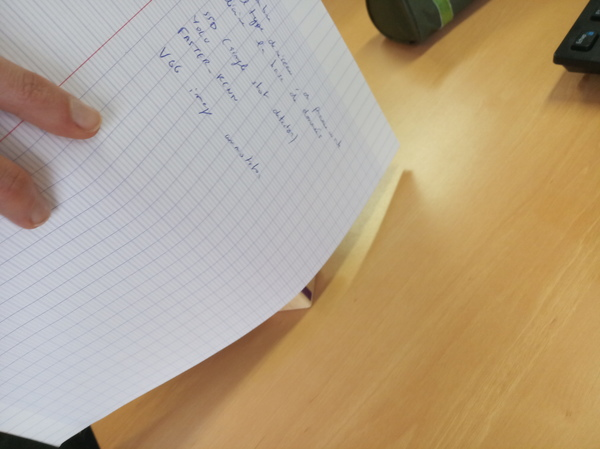violet: (292, 279, 320, 313)
